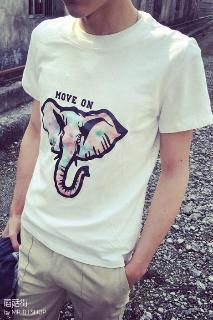short sleeve top: (20, 10, 213, 268)
trousers: (13, 212, 140, 320)
